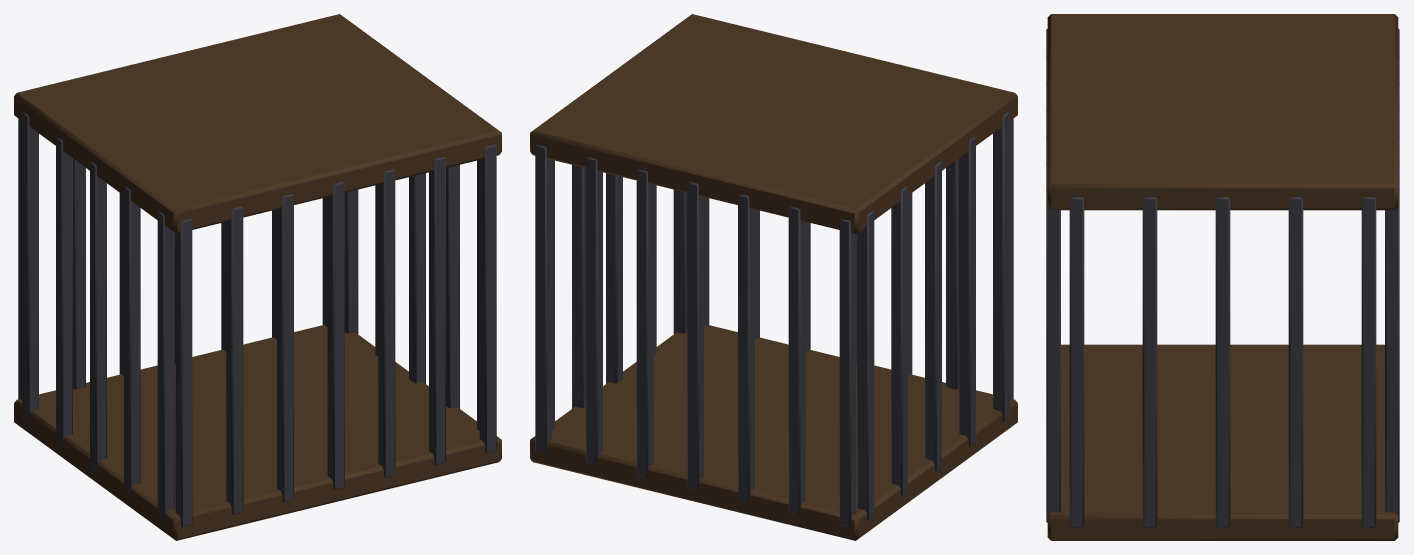
Rendered from cage.glb.
3 renders of one model, left to right at view 1: azimuth 30°, elevation 25°; view 2: azimuth 150°, elevation 25°; view 3: azimuth 270°, elevation 25°, orthographic. The views are drawn at different scales.
Parts seen in each view (by area): view 1: building; view 2: building; view 3: building.
Boxes of the visible parts, left/top/right/bottom form: building: left=14, top=14, right=501, bottom=540; building: left=530, top=14, right=1017, bottom=540; building: left=1046, top=14, right=1399, bottom=540.
Bounding box in the file's own units: 1.41 × 1.35 × 1.21.
